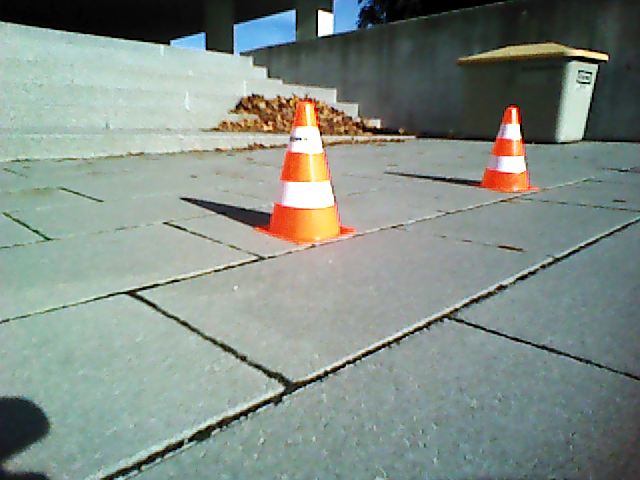orangeconesmall: (269, 101, 348, 243), (478, 105, 535, 192)
